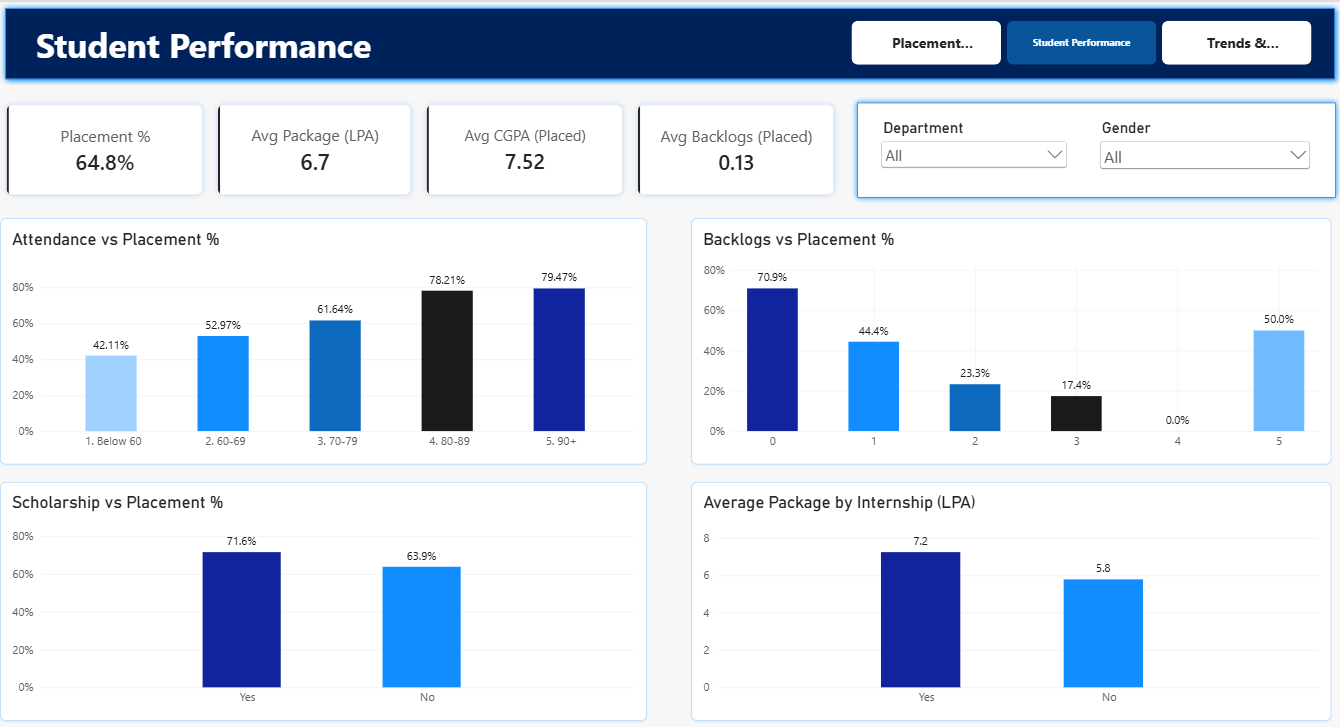

What the dashboard file says about the page in this screenshot:
{"tool":"powerbi","page":{"name":"Student Performance","canvas":[1920,1080],"ordinal":1},"visuals":[{"type":"shape","box":[0,0,1920.1,119.4],"z":0},{"type":"pageNavigator","box":[1219.7,27.1,660.5,63.3],"z":1000},{"type":"cardVisual","fields":{"Data":["Avg(university_placement_data (1).Placed_Flag)"]},"box":[0,135.9,302.2,152],"z":2000},{"type":"cardVisual","fields":{"Data":["Avg(university_placement_data (1).Package_LPA)"]},"box":[302.2,135.9,298.6,152],"z":3000},{"type":"cardVisual","fields":{"Data":["Avg(university_placement_data (1).CGPA)"]},"box":[600.8,135.9,302.2,152],"z":4000},{"type":"cardVisual","fields":{"Data":["Avg(university_placement_data (1).Backlogs)"]},"box":[903,135.9,302.2,152],"z":5000},{"type":"clusteredColumnChart","title":"Attendance vs Placement %","fields":{"Category":["university_placement_data (1).Attendance_Group"],"Y":["Avg(university_placement_data (1).Placed_Flag)"]},"box":[1.8,309.3,924.4,352.2],"z":6000},{"type":"clusteredColumnChart","title":"Backlogs vs Placement %","fields":{"Category":["university_placement_data (1).Backlogs"],"Y":["Avg(university_placement_data (1).Placed_Flag)"]},"box":[990.6,309.3,915.5,352.2],"z":7000},{"type":"clusteredColumnChart","title":"Scholarship vs Placement %","fields":{"Category":["university_placement_data (1).Scholarship"],"Y":["Avg(university_placement_data (1).Placed_Flag)"]},"box":[1.8,686.6,924.4,341.5],"z":8000},{"type":"clusteredColumnChart","title":"Average Package by Internship (LPA)","fields":{"Category":["university_placement_data (1).Internship"],"Y":["Avg(university_placement_data (1).Package_LPA)"]},"box":[990.6,686.6,915.5,341.5],"z":9000},{"type":"shape","box":[1219.4,135.9,700.9,152],"z":10000},{"type":"slicer","fields":{"Values":["university_placement_data (1).Department"]},"box":[1257.1,167.9,275,105.4],"z":11000},{"type":"slicer","fields":{"Values":["university_placement_data (1).Gender"]},"box":[1569.6,167.9,310.7,105.4],"z":12000}]}

Visuals, with their boxes on the page's 1920x1080 design canvas (x1, y1, x2, y2). These are canvas units, not pixel positions in the 1340x727 screenshot, which may show the page scaled, cropped or inside an application window:
shape: bbox(0, 0, 1920, 119)
pageNavigator: bbox(1220, 27, 1880, 90)
cardVisual - Avg(university_placement_data (1).Placed_Flag): bbox(0, 136, 302, 288)
cardVisual - Avg(university_placement_data (1).Package_LPA): bbox(302, 136, 601, 288)
cardVisual - Avg(university_placement_data (1).CGPA): bbox(601, 136, 903, 288)
cardVisual - Avg(university_placement_data (1).Backlogs): bbox(903, 136, 1205, 288)
"Attendance vs Placement %" clusteredColumnChart: bbox(2, 309, 926, 662)
"Backlogs vs Placement %" clusteredColumnChart: bbox(991, 309, 1906, 662)
"Scholarship vs Placement %" clusteredColumnChart: bbox(2, 687, 926, 1028)
"Average Package by Internship (LPA)" clusteredColumnChart: bbox(991, 687, 1906, 1028)
shape: bbox(1219, 136, 1920, 288)
slicer - university_placement_data (1).Department: bbox(1257, 168, 1532, 273)
slicer - university_placement_data (1).Gender: bbox(1570, 168, 1880, 273)
